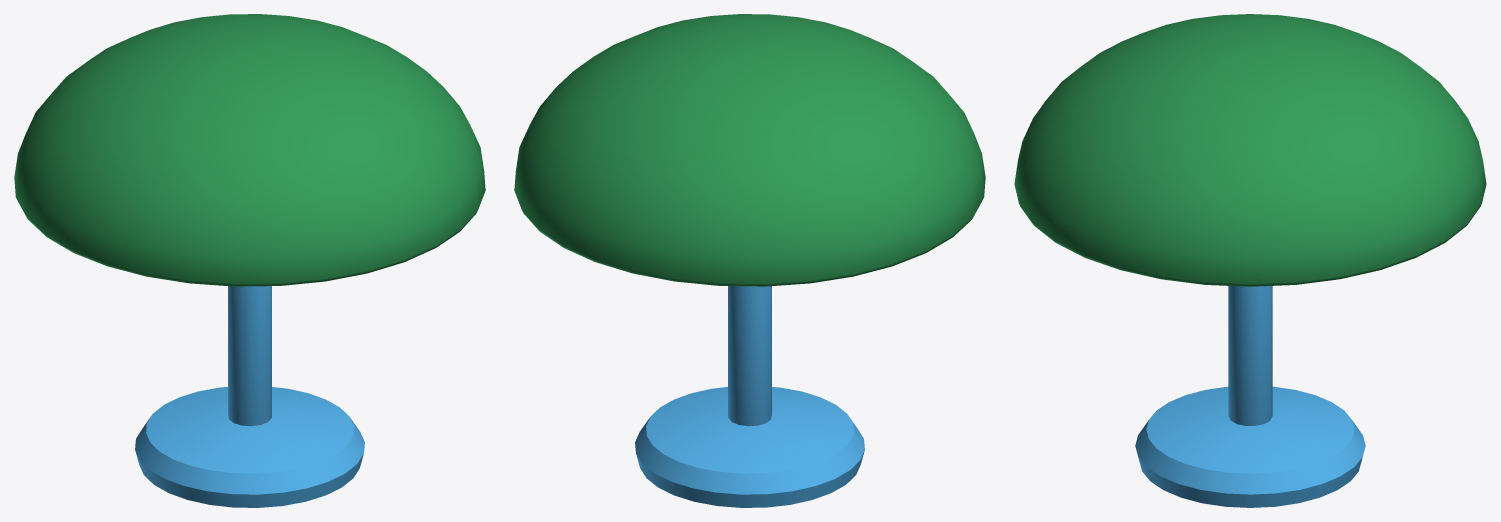
The model's file is abajur_cogumelo.glb.
3 renders of one model, left to right at view 1: azimuth 30°, elevation 25°; view 2: azimuth 150°, elevation 25°; view 3: azimuth 270°, elevation 25°, orthographic.
Visible parts, largest first — view 1: abajur_cogumelo; view 2: abajur_cogumelo; view 3: abajur_cogumelo.
Part boxes in pixels (x1=…): abajur_cogumelo: x1=14, y1=14, x2=485, y2=507; abajur_cogumelo: x1=514, y1=14, x2=985, y2=507; abajur_cogumelo: x1=1014, y1=14, x2=1486, y2=507.
Bounding box in the file's own units: 0.34 × 0.33 × 0.34.
2 materials, 1 textured.
